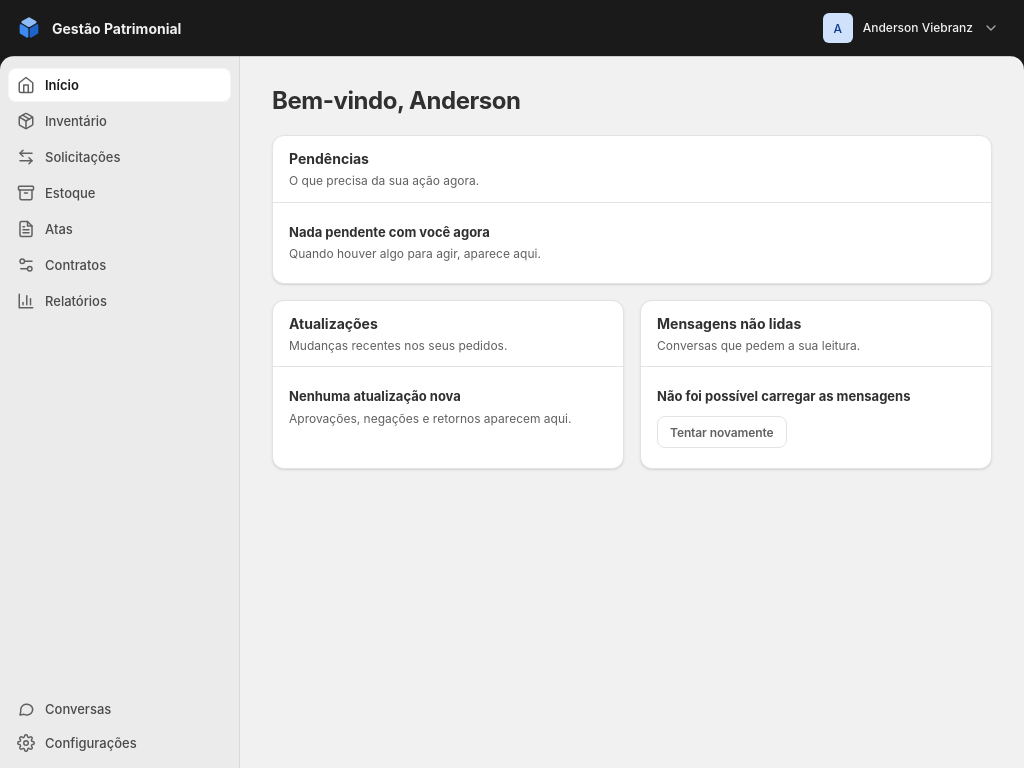
Relatórios (Administrador) › abrir a seção leva à Visão geral e uma rota inválida volta a ela
Expected: the heading "Bem-vindo, Anderson" is shown, [272,88,521,115]
Click the link "Relatórios".
click(62, 301)  # box [17,292,107,310]
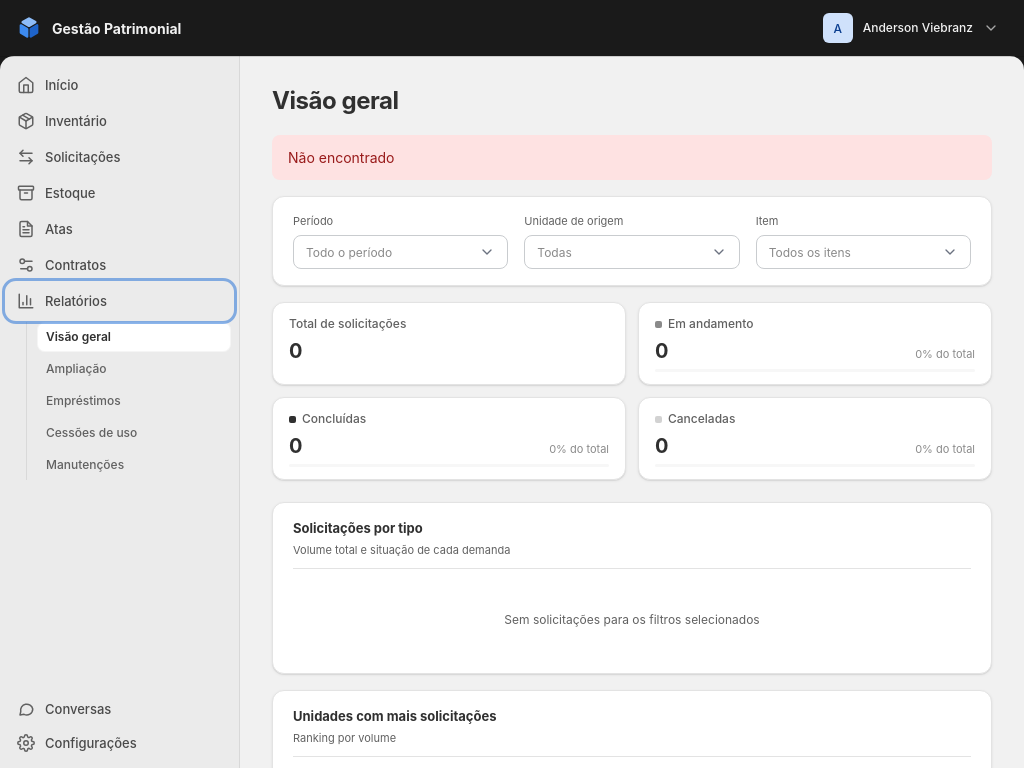
Now the heading "Visão geral" is shown, box [272,88,399,115]
Now the links read "Visão geral", "Ampliação", "Empréstimos", "Cessões de uso", "Manutenções", in this order, box [37,322,231,352]; [46,361,107,376]; [46,393,121,408]; [46,425,137,440]; [46,457,124,472]
